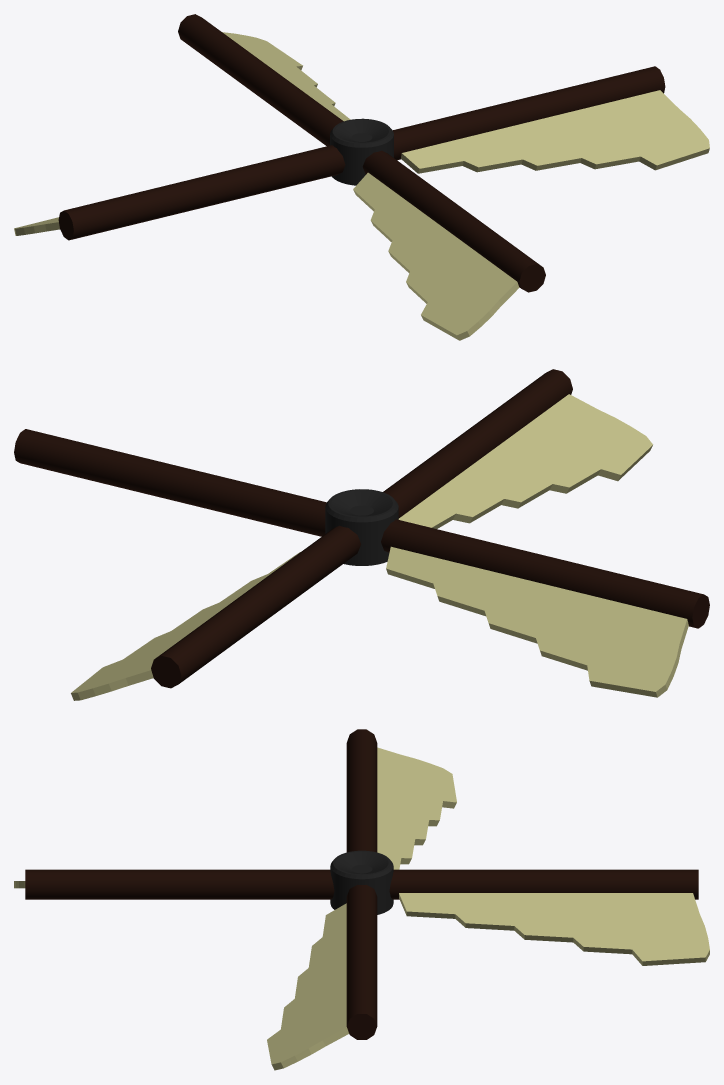
The model's file is spinner_small.FBX.
3 views of the same model, one above another, from view 1: azimuth 30°, elevation 25°; view 2: azimuth 150°, elevation 25°; view 3: azimuth 270°, elevation 25° (orthographic). The views are drawn at different scales.
Visible parts, largest first — view 1: spinner_small; view 2: spinner_small; view 3: spinner_small.
Boxes of the visible parts, bbox=[...] form: spinner_small: bbox=[14, 14, 709, 340]; spinner_small: bbox=[14, 369, 709, 700]; spinner_small: bbox=[14, 729, 709, 1070].
Bounding box in the file's own units: 3.2 × 0.3261 × 3.2.
